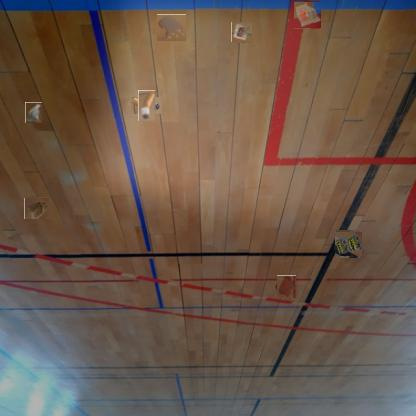dirty: (293, 1, 321, 29), (335, 231, 361, 257), (135, 93, 158, 118), (24, 198, 49, 220), (232, 22, 252, 43), (25, 102, 42, 123)
liquid: (156, 14, 186, 41), (276, 276, 297, 298)
